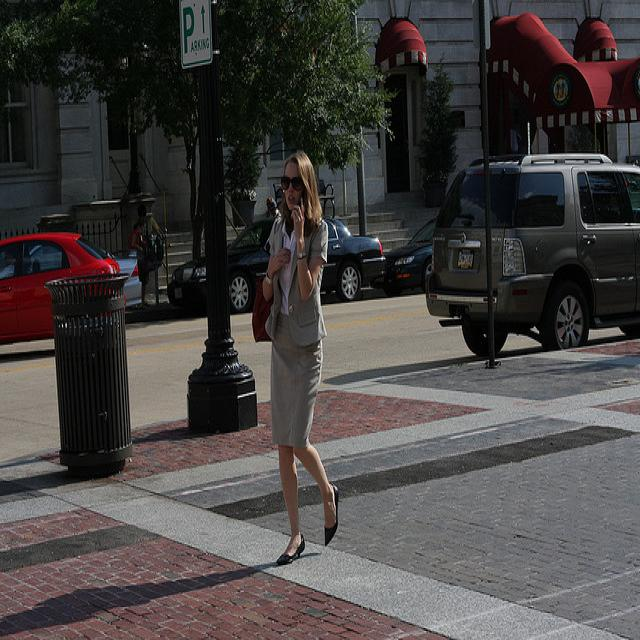Vehicle: (427, 153, 640, 360), (170, 222, 385, 314), (1, 230, 118, 340), (382, 216, 438, 296), (119, 258, 143, 310)
